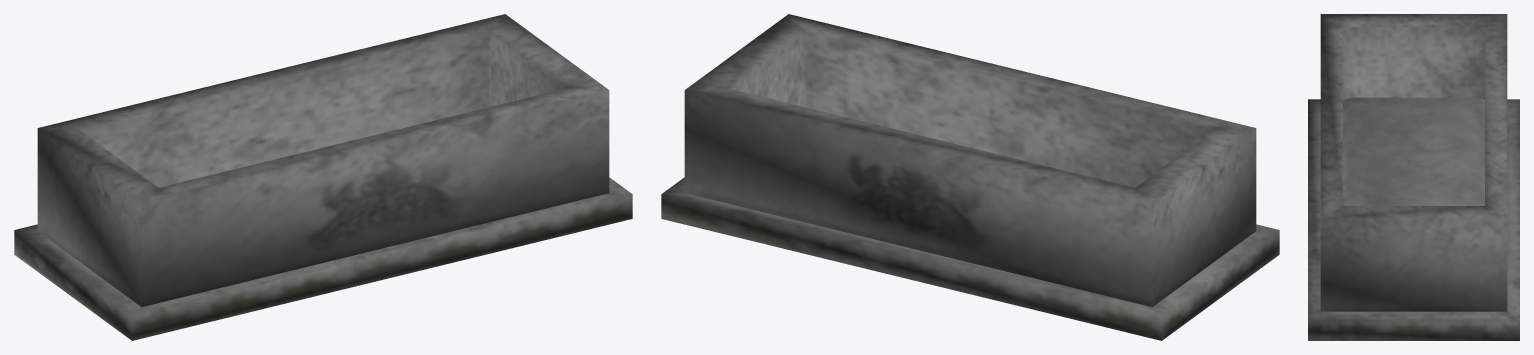
The model's file is Coffin.glb.
The picture shows the model from 3 angles, left to right: view 1: azimuth 30°, elevation 25°; view 2: azimuth 150°, elevation 25°; view 3: azimuth 270°, elevation 25°; orthographic projection. The views are drawn at different scales.
Parts seen in each view (by area): view 1: coffin, coffin lid; view 2: coffin, coffin lid; view 3: coffin, coffin lid.
Boxes of the visible parts, x1,y1,x2,y2 form: coffin: [37, 14, 609, 306]; coffin lid: [14, 177, 632, 340]; coffin: [684, 14, 1256, 306]; coffin lid: [661, 177, 1279, 340]; coffin: [1320, 14, 1507, 311]; coffin lid: [1308, 97, 1519, 340].
Bounding box in the file's own units: 2.03 × 0.496 × 0.8289.
2 materials, 2 textured.
